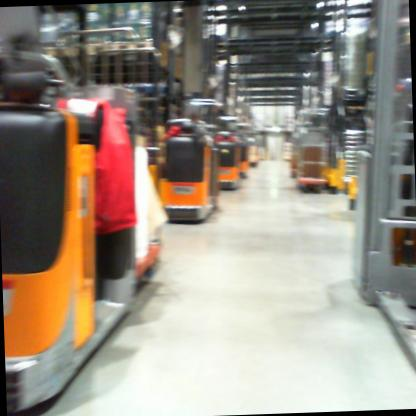pallet: (114, 28, 161, 57), (36, 35, 76, 64), (75, 34, 114, 61)
pallet_truck: (0, 4, 148, 415), (149, 96, 227, 261), (201, 82, 241, 205), (223, 102, 260, 193)
